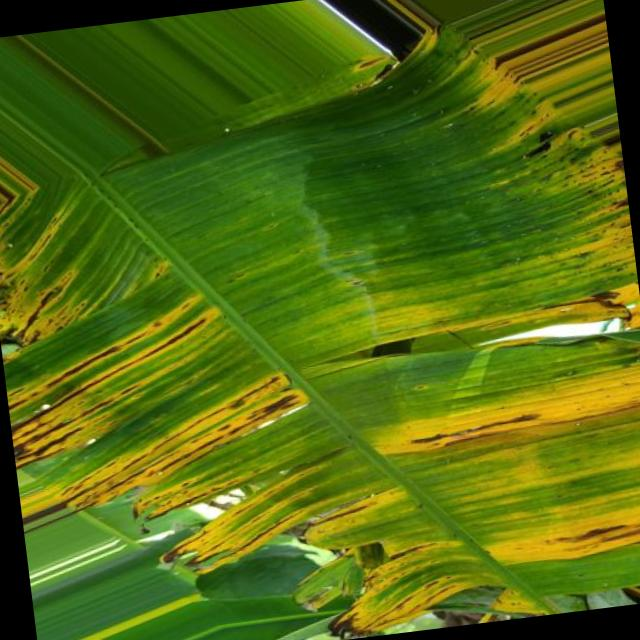Banana_Black_Sigatoka: (0, 154, 420, 640), (370, 0, 640, 626)
